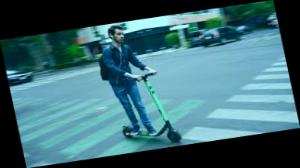nonhelmet: (88, 17, 187, 152)
